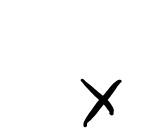mult: (80, 79, 121, 127)
